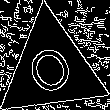O_SE: (21, 35, 81, 102)
